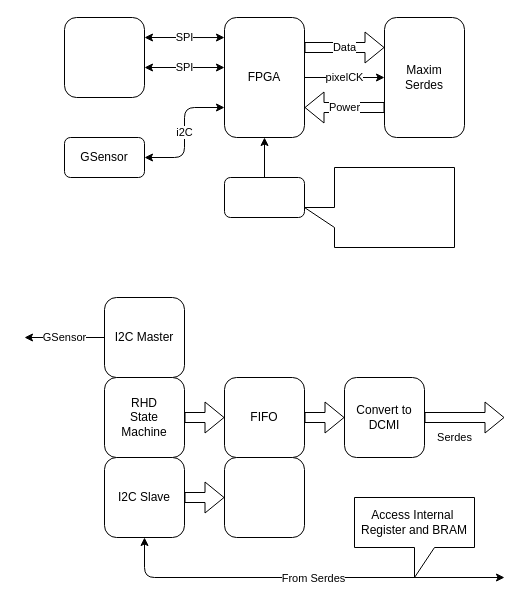
The diagram is 531 pixels wide and 604 high, and some of its shapes have lost their labels. The box of each missing label's shape, as (x1, y1, x2, y2) in pixels:
BRAM: (224, 456, 304, 538)
efinix : T8 or Intel : Max 10: (304, 166, 454, 248)
RHD ADC: (64, 16, 144, 98)
SPI Flash: (224, 176, 304, 218)
